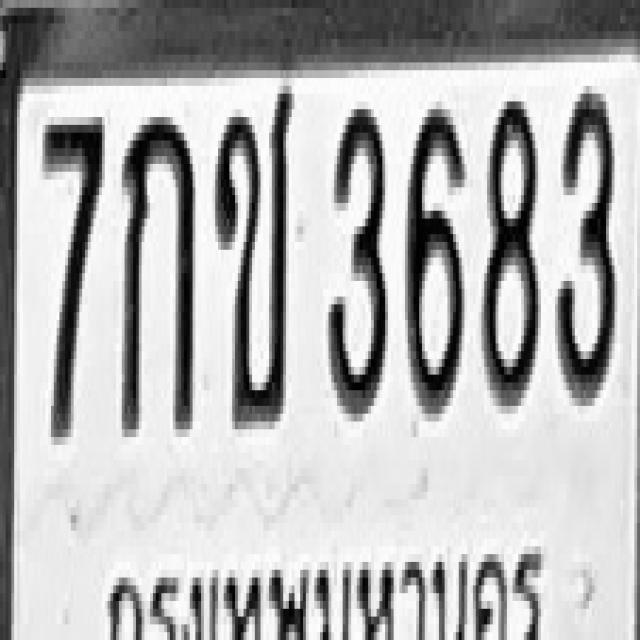10GorGai: (120, 106, 194, 433)
19ChorChang: (214, 82, 293, 425)
3: (555, 86, 615, 398), (326, 102, 385, 414)
6: (405, 102, 464, 414)
7: (41, 109, 103, 437)
8: (481, 94, 538, 406)
Bangkok: (90, 492, 578, 640)
